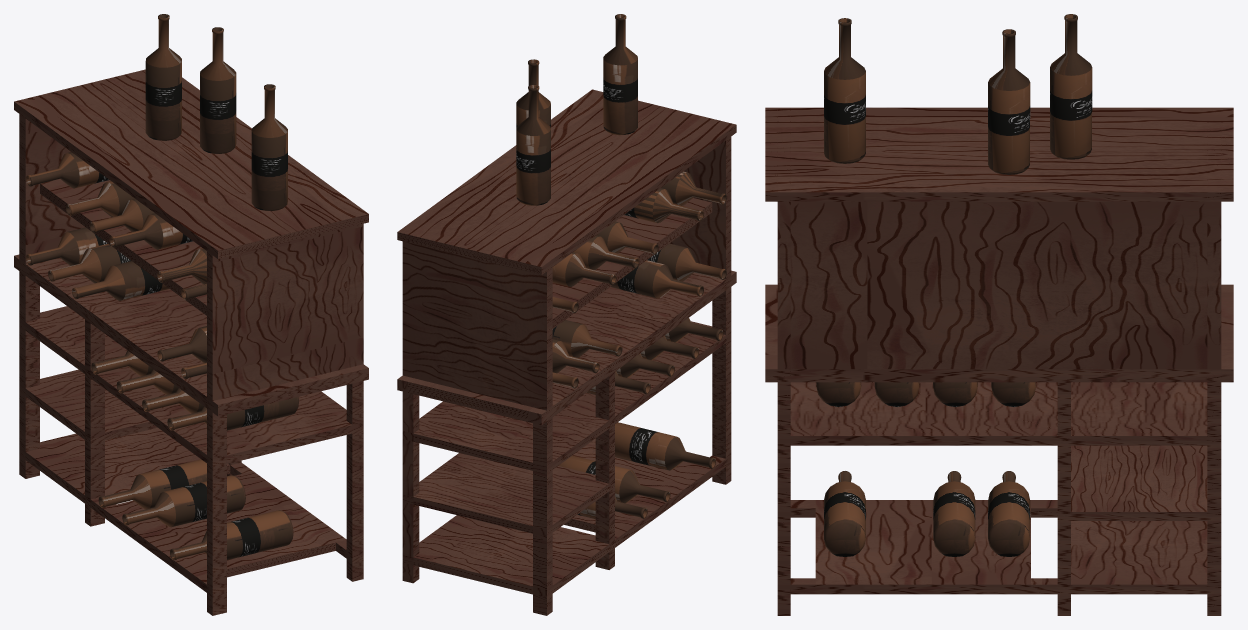
Rendered from wine shelf.fbx.
The picture shows the model from 3 angles, left to right: view 1: azimuth 30°, elevation 25°; view 2: azimuth 150°, elevation 25°; view 3: azimuth 270°, elevation 25°; orthographic projection. The views are drawn at different scales.
Parts seen in each view (by area): view 1: Cube, Cylinder.007, Cylinder.001, Cylinder.005, Cylinder, Cylinder.004, Cylinder.002, Cylinder.006, Cylinder.003; view 2: Cube, Cylinder.007, Cylinder.001, Cylinder.006, Cylinder.002, Cylinder, Cylinder.004, Cylinder.005, Cylinder.003; view 3: Cube, Cylinder.007, Cylinder.001, Cylinder.
Boxes of the visible parts, box(x1,y1,x2,y2) form: Cube: box(14, 69, 368, 615); Cylinder.007: box(145, 14, 287, 211); Cylinder.001: box(98, 459, 293, 560); Cylinder.005: box(26, 227, 169, 301); Cylinder: box(91, 350, 298, 430); Cylinder.004: box(26, 152, 154, 233); Cylinder.002: box(109, 213, 206, 300); Cylinder.006: box(157, 326, 206, 379); Cylinder.003: box(157, 248, 206, 299); Cube: box(397, 89, 736, 615); Cylinder.007: box(516, 14, 637, 205); Cylinder.001: box(558, 422, 715, 518); Cylinder.006: box(610, 243, 726, 298); Cylinder.002: box(596, 171, 726, 254); Cylinder: box(587, 318, 723, 394); Cylinder.004: box(552, 235, 639, 313); Cylinder.005: box(552, 320, 622, 388); Cylinder.003: box(624, 172, 725, 222); Cube: box(765, 107, 1233, 615); Cylinder.007: box(824, 14, 1092, 174); Cylinder.001: box(824, 471, 1030, 556); Cylinder: box(816, 382, 1035, 407).
Bounding box in the file's own units: 220 × 616 × 468.
Materials: 9 (9 with a texture image).
